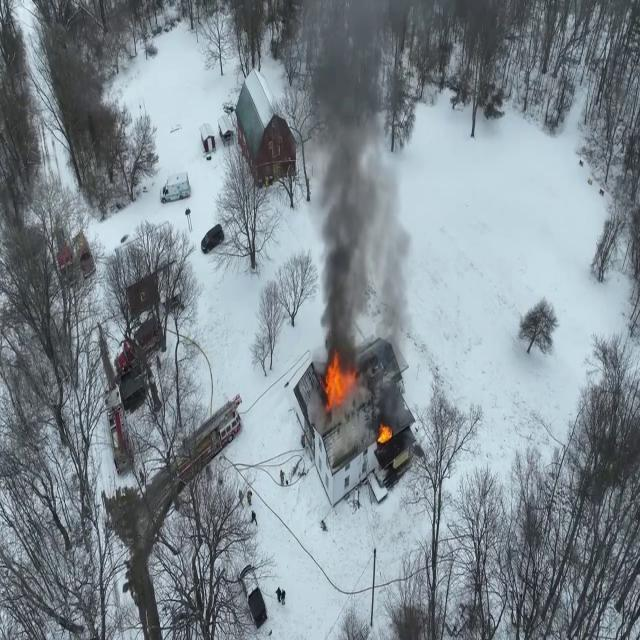Fire: (322, 347, 358, 418)
Smoke: (300, 2, 418, 352)
